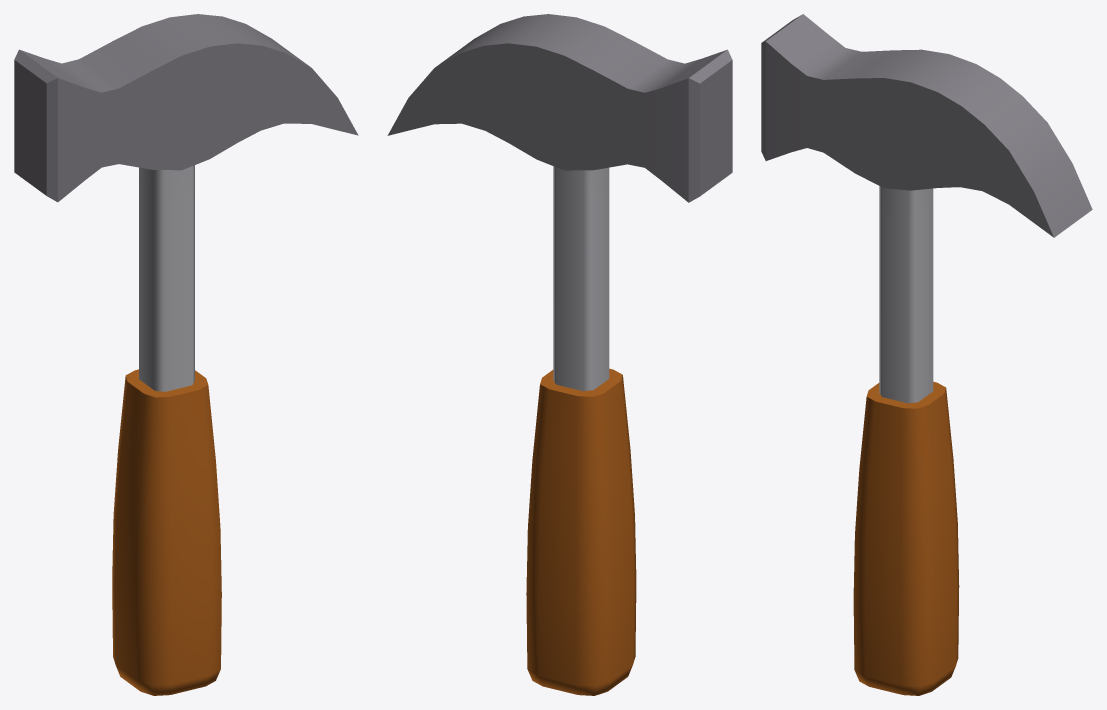
The model's file is Hammer_01.fbx.
3 views of the same model, side by side, from view 1: azimuth 30°, elevation 25°; view 2: azimuth 150°, elevation 25°; view 3: azimuth 330°, elevation 25° (orthographic). The views are drawn at different scales.
Visible parts, largest first — view 1: Hammer_01; view 2: Hammer_01; view 3: Hammer_01.
Boxes of the visible parts, bbox=[...] form: Hammer_01: bbox=[14, 14, 358, 695]; Hammer_01: bbox=[387, 14, 732, 695]; Hammer_01: bbox=[761, 14, 1092, 695].
Bounding box in the file's own units: 24.58 × 6.62 × 49.33.
